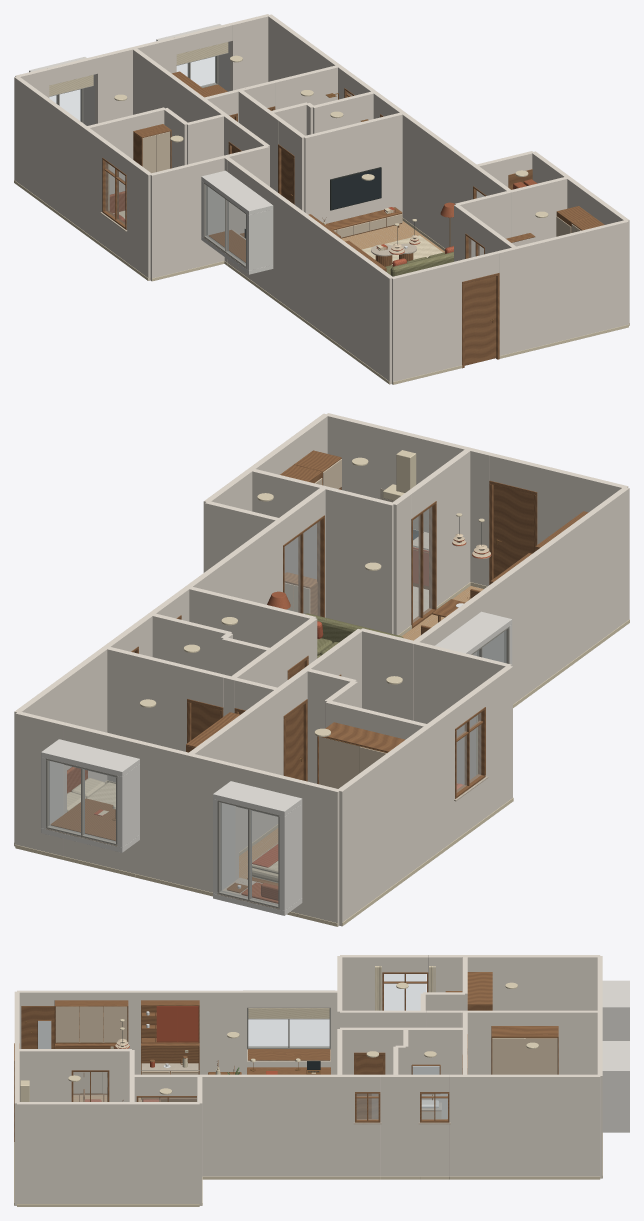
The model's file is house.glb.
3 views of the same model, one above another, from view 1: azimuth 30°, elevation 25°; view 2: azimuth 150°, elevation 25°; view 3: azimuth 270°, elevation 25° (orthographic). The views are drawn at different scales.
Visible parts, largest first — view 1: Wall 04 / pier.001, Wall 03 / pier.001, Wall 01 / pier, Wall 13 / pier, Wall 04 / pier, Wall 07 / pier.002, Wall 02 / pier, Wall 00 / pier.001, Wall 08 / pier, Wall 15 / pier, Wall 07 / pier, entry_door / oak door leaf (+42 smaller); view 2: Wall 03 / pier.001, Wall 01 / pier, Wall 00 / pier.001, Wall 16 / pier, Wall 04 / pier.001, Wall 10 / pier.002, Wall 02 / pier, Wall 08 / pier, Wall 00 / pier, Wall 00 / pier.002, Wall 07 / pier, Wall 07 / pier.002 (+53 smaller); view 3: Wall 05 / pier, Wall 07 / pier.002, Wall 07 / pier, Wall 01 / pier, Wall 03 / pier.001, Wall 08 / pier, Wall 07 / pier.001, Wall 11 / pier, Wall 17 / pier.001, Wall 01 / pier.001, Wall 07 / sill, Wall 03 / lintel (+51 smaller).
Boxes of the visible parts, box(x1,y1,x2,y2) form: Wall 04 / pier.001: box(497, 220, 628, 355); Wall 03 / pier.001: box(271, 191, 393, 384); Wall 01 / pier: box(14, 76, 106, 244); Wall 13 / pier: box(304, 112, 402, 223); Wall 04 / pier: box(391, 260, 461, 384); Wall 07 / pier.002: box(393, 107, 476, 248); Wall 02 / pier: box(150, 155, 226, 280); Wall 00 / pier.001: box(95, 37, 176, 123); Wall 08 / pier: box(132, 48, 206, 122); Wall 15 / pier: box(511, 177, 568, 246); Wall 07 / pier: box(268, 14, 348, 99); entry_door / oak door leaf: box(464, 276, 496, 365); Wall 03 / pier.001: box(473, 487, 629, 704); Wall 01 / pier: box(339, 708, 454, 926); Wall 00 / pier.001: box(135, 740, 238, 892); Wall 16 / pier: box(324, 486, 394, 634); Wall 04 / pier.001: box(325, 413, 492, 586); Wall 10 / pier.002: box(107, 647, 190, 782); Wall 02 / pier: box(413, 641, 511, 784); Wall 08 / pier: box(188, 687, 283, 851); Wall 00 / pier: box(297, 780, 340, 926); Wall 00 / pier.002: box(15, 711, 66, 856); Wall 07 / pier: box(14, 639, 118, 846); Wall 07 / pier.002: box(175, 519, 282, 621); Wall 05 / pier: box(17, 1102, 199, 1203); Wall 07 / pier.002: box(199, 1074, 354, 1176); Wall 07 / pier: box(449, 1074, 600, 1176); Wall 01 / pier: box(428, 955, 600, 1010); Wall 03 / pier.001: box(17, 990, 246, 1074); Wall 08 / pier: box(462, 1010, 599, 1074); Wall 07 / pier.001: box(380, 1074, 419, 1176); Wall 11 / pier: box(385, 1027, 464, 1118); Wall 17 / pier.001: box(17, 1049, 71, 1101); Wall 01 / pier.001: box(340, 955, 382, 1010); Wall 07 / sill: box(420, 1124, 449, 1176); Wall 03 / lintel: box(247, 990, 330, 1007).
Bounding box in the file's own units: 8.46 × 2.71 × 14.67.
37 materials, 14 textured.
